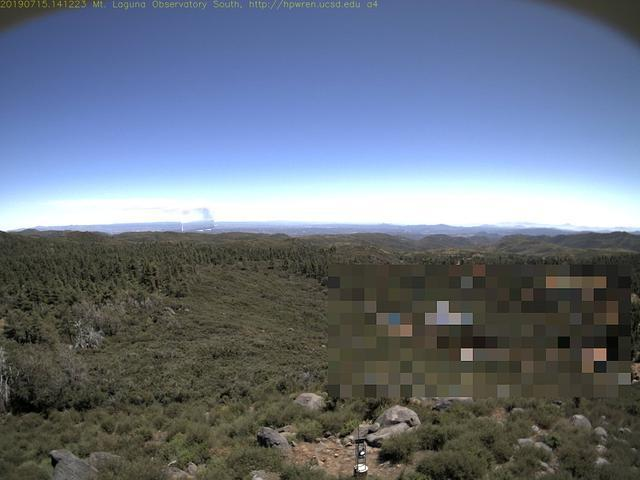smoke: (182, 205, 216, 233)
